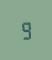nine: (19, 20, 31, 39)
